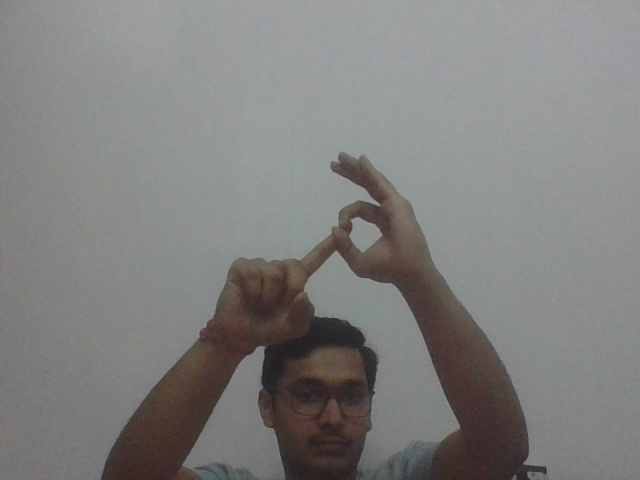Q: (230, 151, 413, 308)
